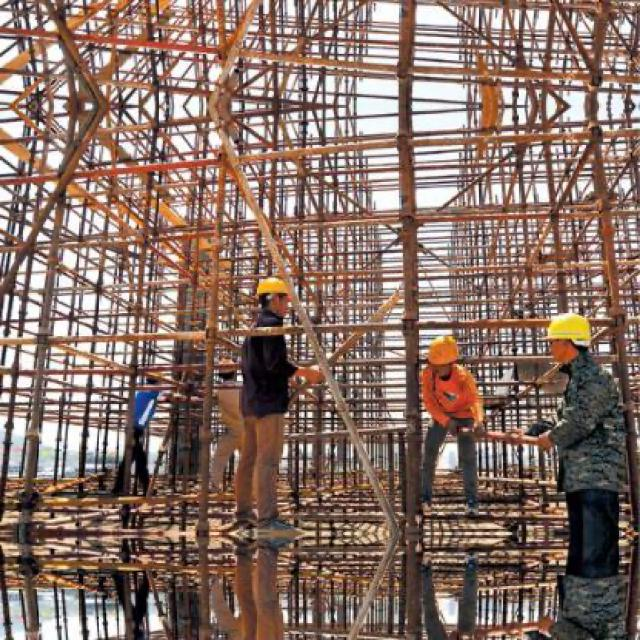con casco: (535, 296, 618, 376), (417, 325, 497, 378), (243, 270, 303, 316)
